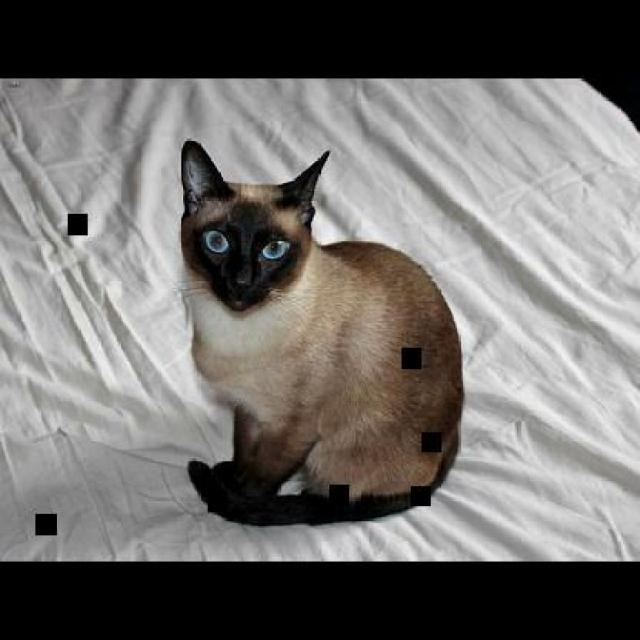unauthorized: (176, 137, 464, 526)
